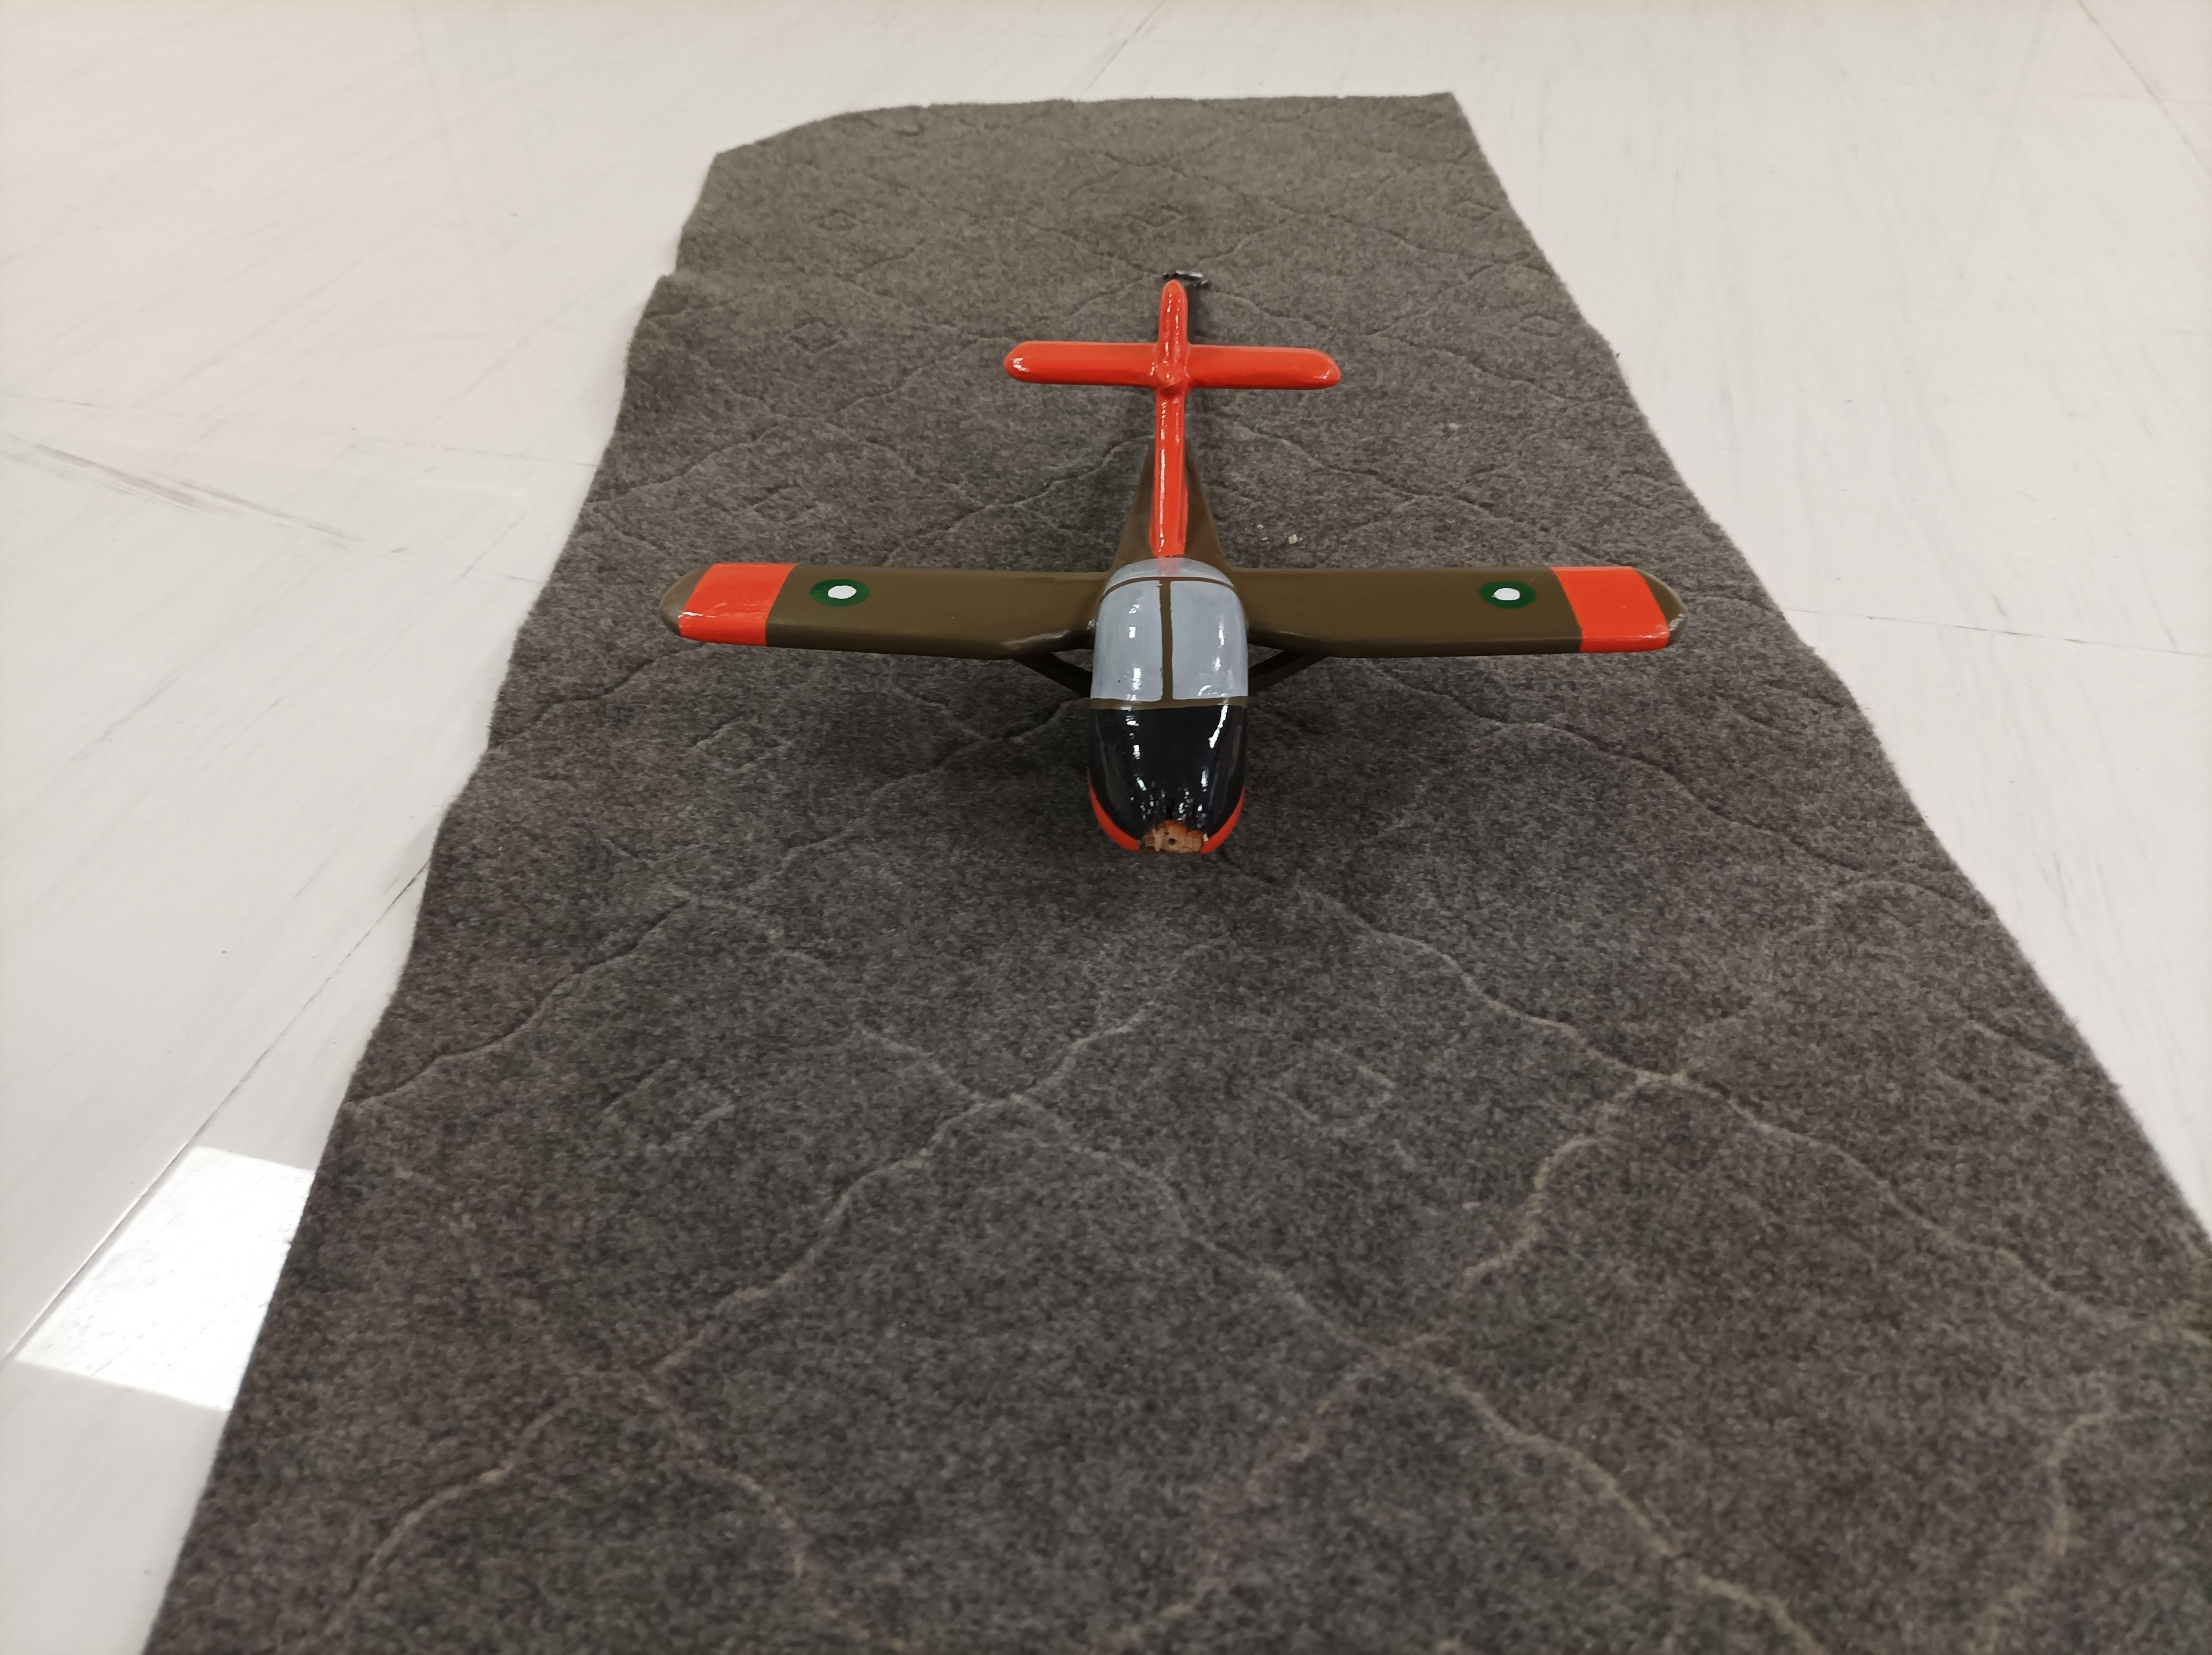Airplane: (669, 254, 1687, 874)
